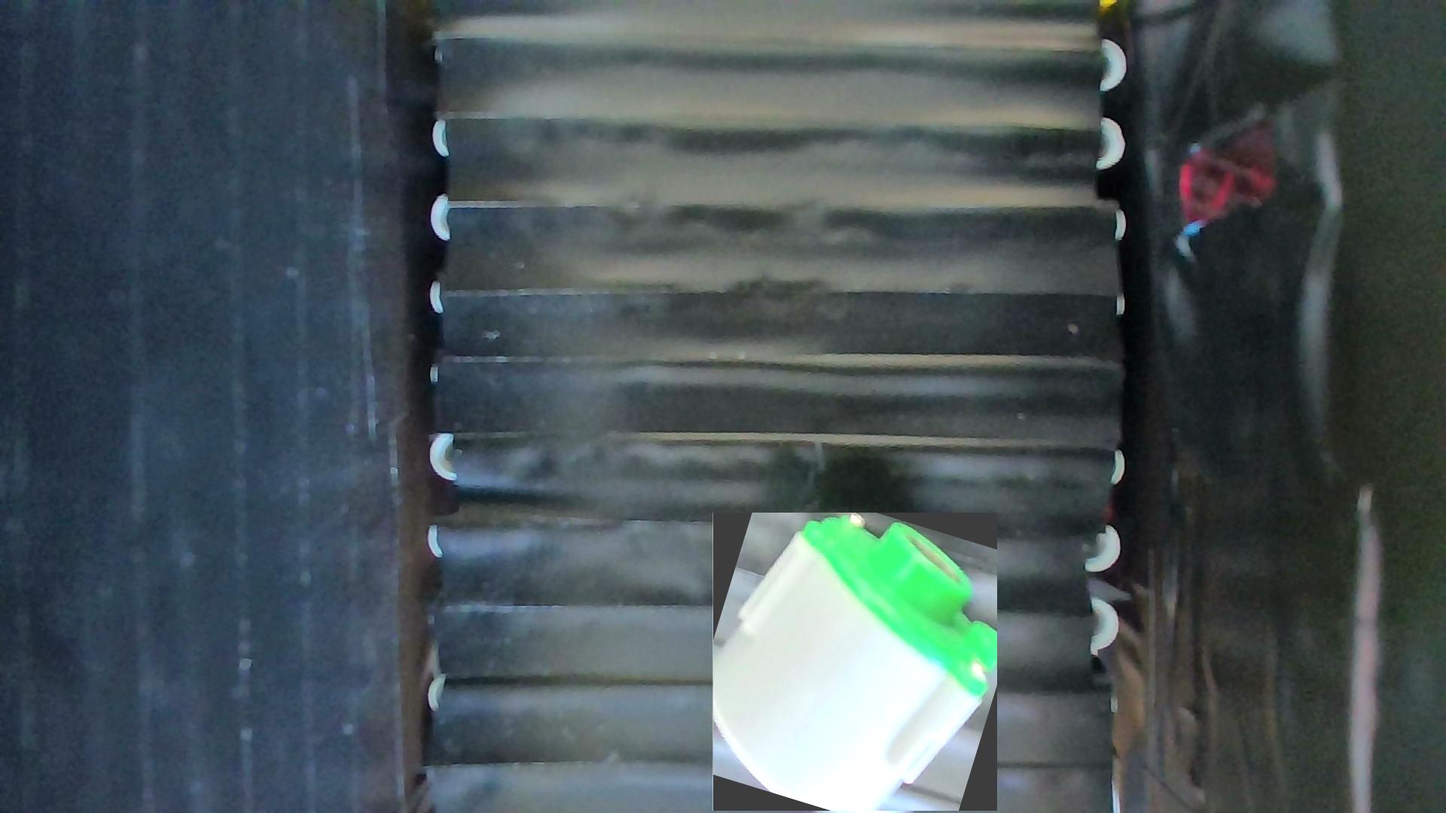cartridge: (712, 513, 997, 811)
